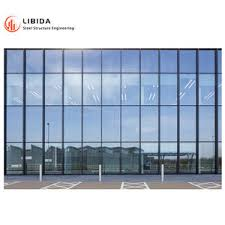glass_panel: (102, 106, 119, 141), (83, 143, 102, 174), (83, 107, 100, 141), (45, 106, 61, 142), (64, 106, 80, 141), (83, 74, 101, 105), (102, 74, 120, 105), (122, 106, 138, 140), (141, 106, 157, 140), (6, 107, 22, 141), (160, 106, 176, 140), (26, 107, 42, 141), (121, 143, 139, 173), (121, 74, 139, 104), (179, 74, 196, 105), (64, 74, 81, 105), (180, 106, 195, 140), (45, 143, 62, 173), (102, 143, 119, 173), (64, 143, 81, 173), (199, 106, 214, 140), (141, 74, 158, 104), (45, 74, 61, 104), (26, 143, 42, 173), (160, 74, 176, 104), (6, 143, 22, 173), (26, 74, 42, 104), (141, 143, 157, 173), (179, 143, 195, 172), (160, 143, 176, 172), (199, 74, 214, 104), (199, 142, 214, 172), (7, 74, 22, 104), (64, 50, 81, 72), (102, 50, 119, 72), (83, 50, 100, 71), (160, 50, 176, 72), (141, 50, 157, 72), (179, 50, 195, 72), (26, 50, 42, 72), (45, 50, 61, 72), (122, 50, 138, 71), (7, 50, 22, 72), (199, 50, 214, 72), (217, 142, 221, 172), (218, 106, 221, 140), (218, 74, 221, 104), (217, 50, 221, 72)
